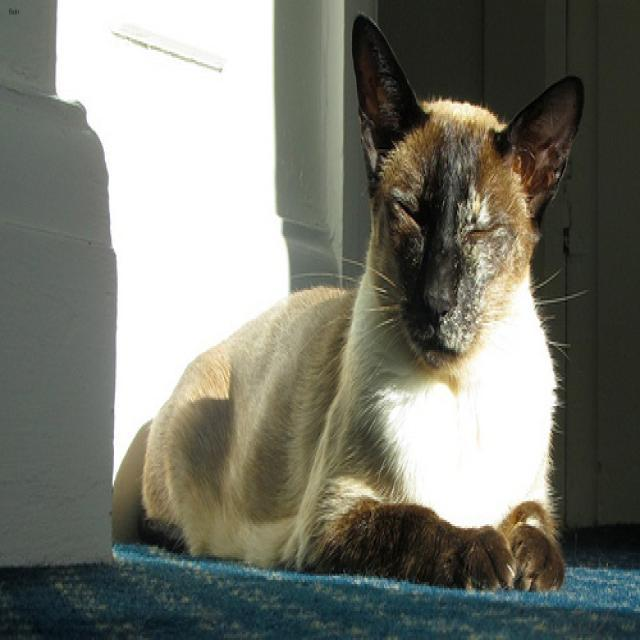Siamese: (351, 11, 587, 377)
